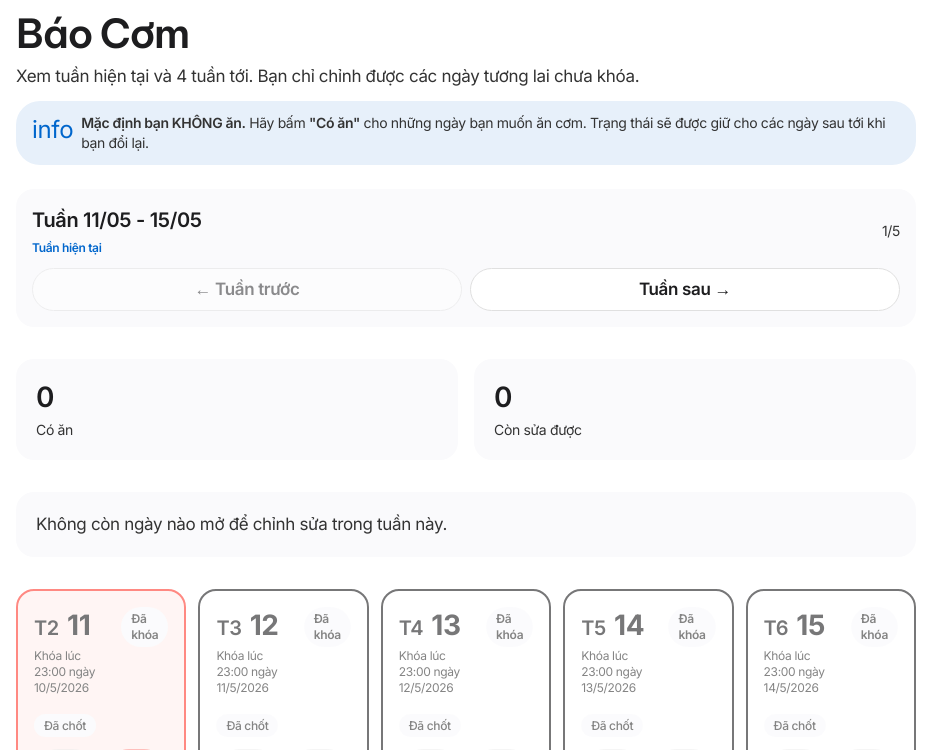
Test: BookPage weekly cards › disables next at week offset 4
What coordinates should you click on to do the following:
click the button "Tuần sau →"
I would click on:
 (685, 290)
Its box is 470,268 -> 900,311.
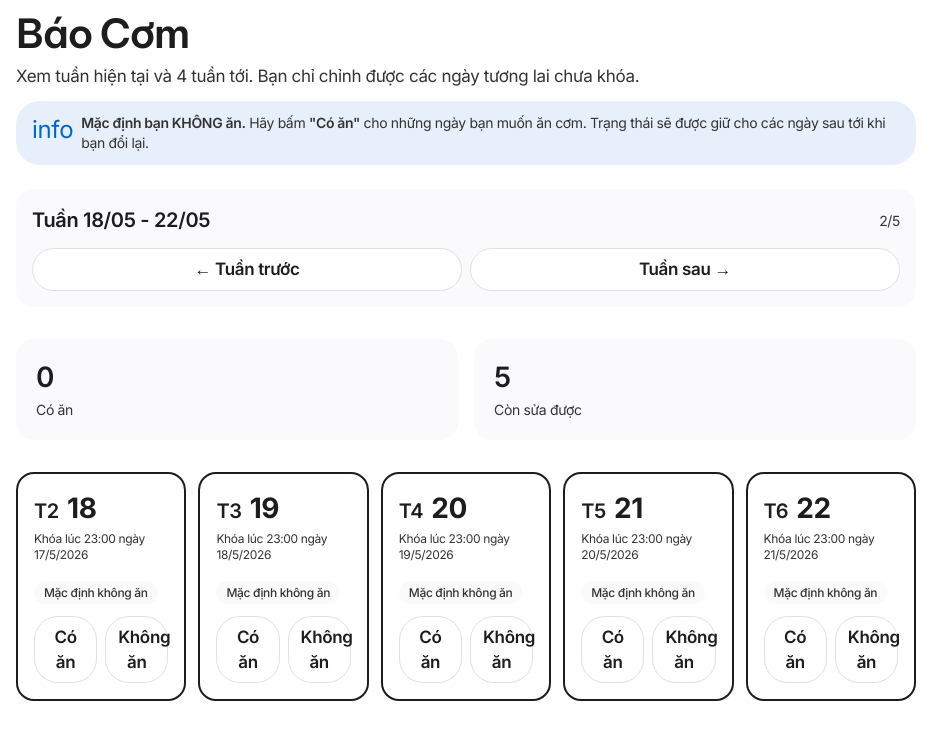
What coordinates should you click on to do the following:
click the button "Tuần sau →"
I would click on:
 (685, 270)
Its box is 470,248 -> 900,291.
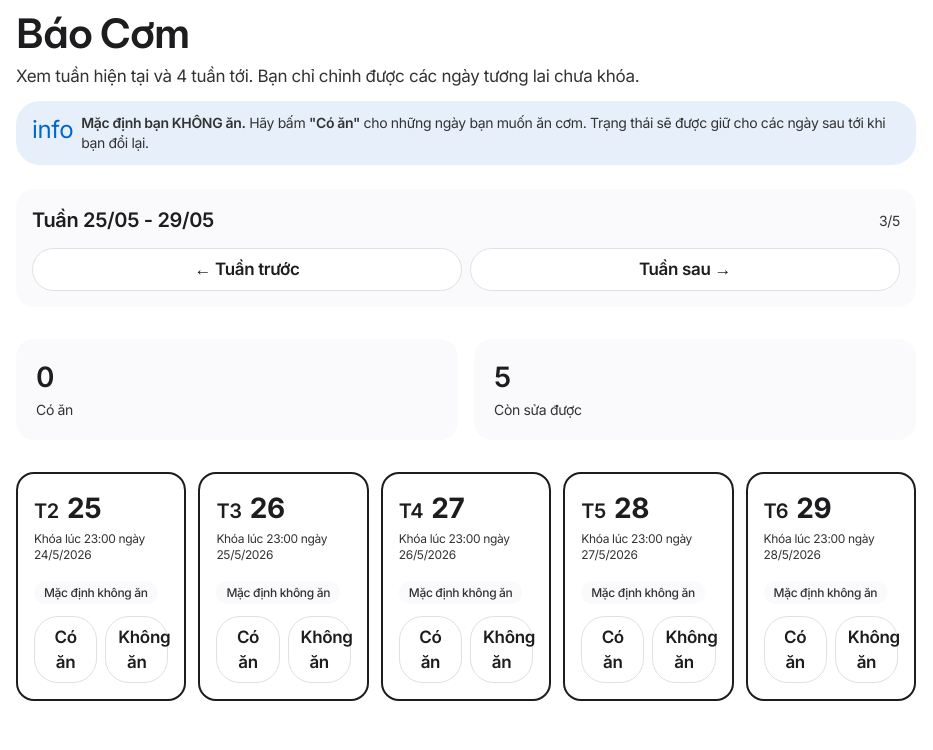
What coordinates should you click on to do the following:
click the button "Tuần sau →"
I would click on:
 (685, 270)
Its box is 470,248 -> 900,291.
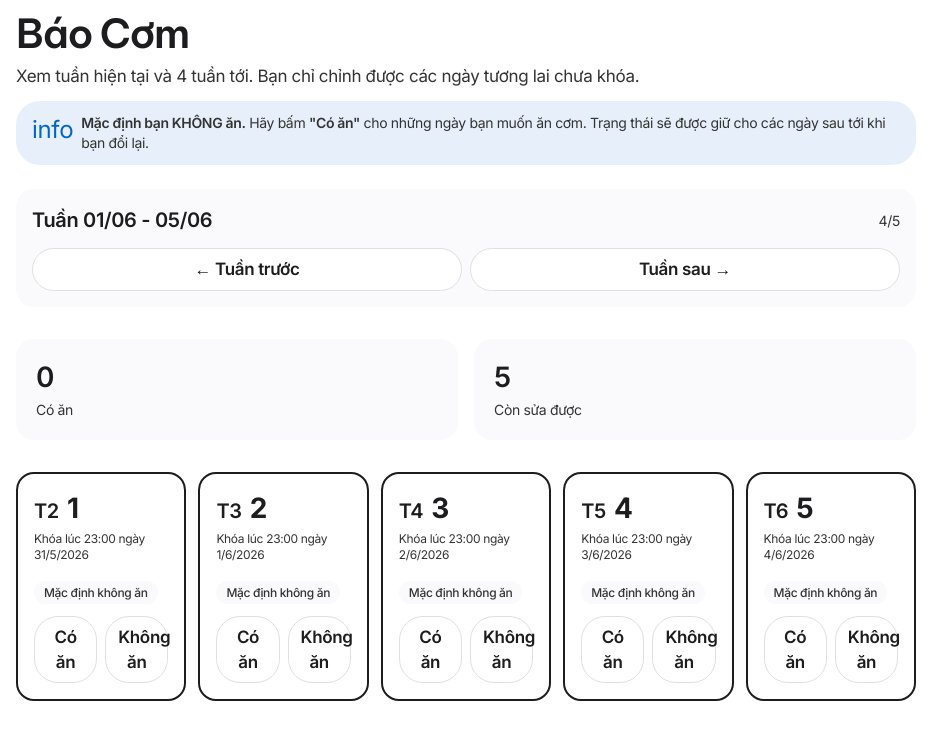
What coordinates should you click on to do the following:
click the button "Tuần sau →"
I would click on:
 (685, 270)
Its box is 470,248 -> 900,291.
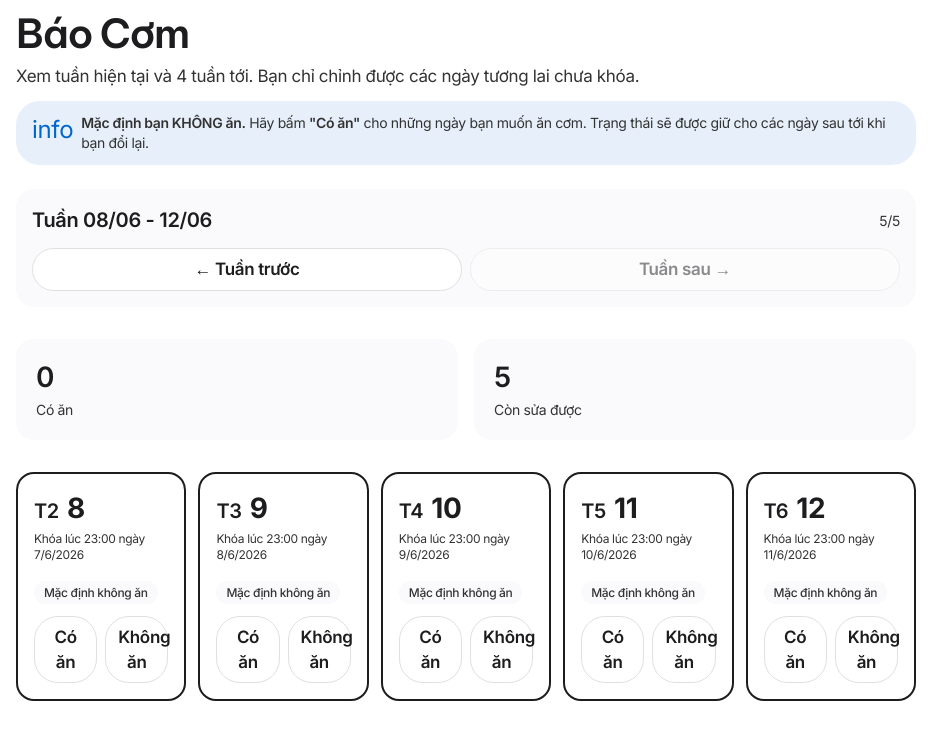
Expected: the text "Tuần 08/06 - 12/06" is shown, 32,205 -> 212,236
Expected: the button "Tuần sau →" is disabled, 470,248 -> 900,291
